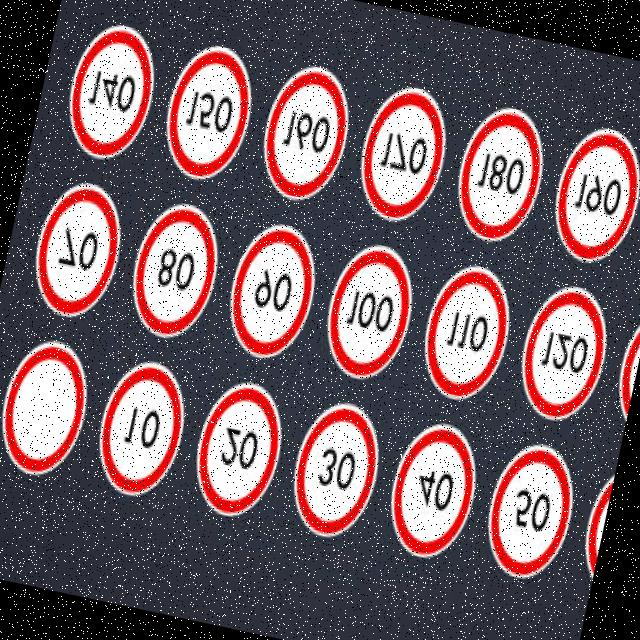speed_limit_100: (306, 233, 428, 394)
speed_limit_120: (509, 272, 619, 429)
speed_limit_20: (176, 370, 298, 535)
speed_limit_30: (279, 387, 392, 555)
speed_limit_50: (471, 422, 586, 596)
speed_limit_60: (572, 460, 616, 592)
speed_limit_70: (18, 172, 134, 329)
speed_limit_80: (118, 194, 232, 348)
